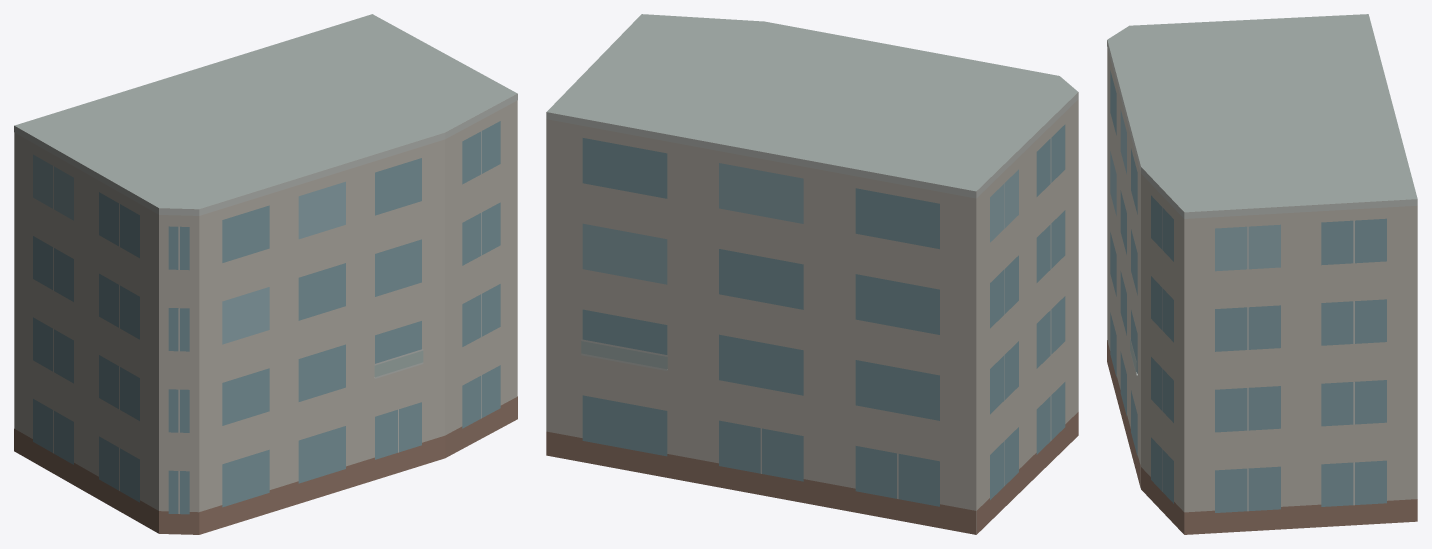
Rendered from survey-upis-32744958.glb.
The picture shows the model from 3 angles, left to right: view 1: azimuth 30°, elevation 25°; view 2: azimuth 150°, elevation 25°; view 3: azimuth 270°, elevation 25°; orthographic projection. The views are drawn at different scales.
Parts seen in each view (by area): view 1: survey-upis-32744958.tmp; view 2: survey-upis-32744958.tmp; view 3: survey-upis-32744958.tmp.
Part boxes in pixels (x1,y1,x2,y2): survey-upis-32744958.tmp: (14,14,517,534); survey-upis-32744958.tmp: (546,14,1078,534); survey-upis-32744958.tmp: (1107,14,1417,534).
Size of the model in its own units: 15.58 by 11.8 by 10.31.
